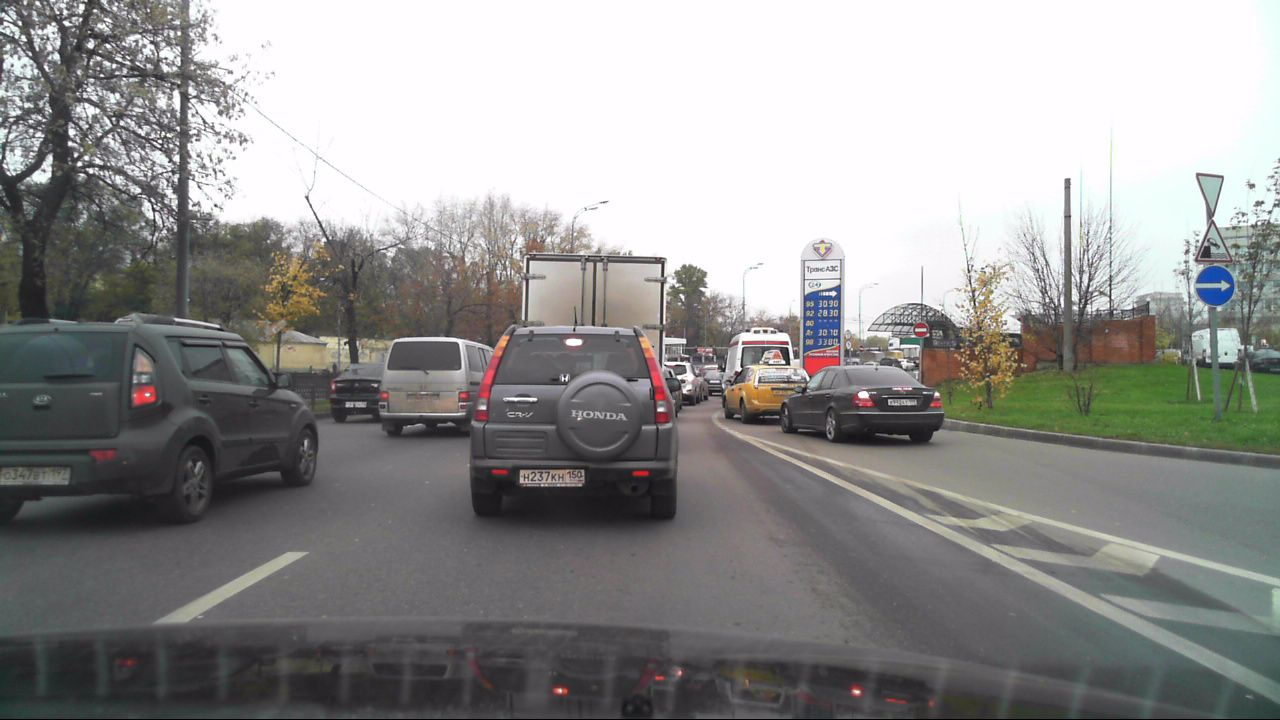Turn Right: (1194, 265, 1235, 306)
